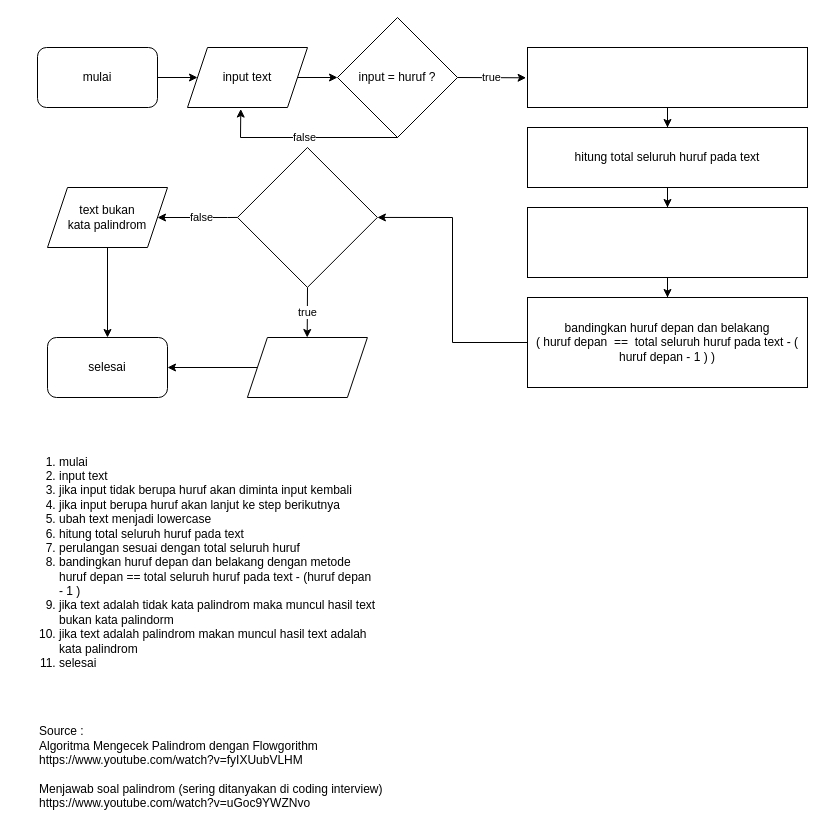
Image size: 825x835. Some labels were removed from this diagram. The shapes that lost their labels are listed below. From the top down, each one's centre as x and y in pixels, then its label:
(x=667, y=77): ubah text menjadi lowercase
(x=306, y=216): text adalah kata palindrom ?
(x=667, y=242): perulangan sesuai dengan total seluruh huruf
(x=306, y=367): text adalah kata palindrom
